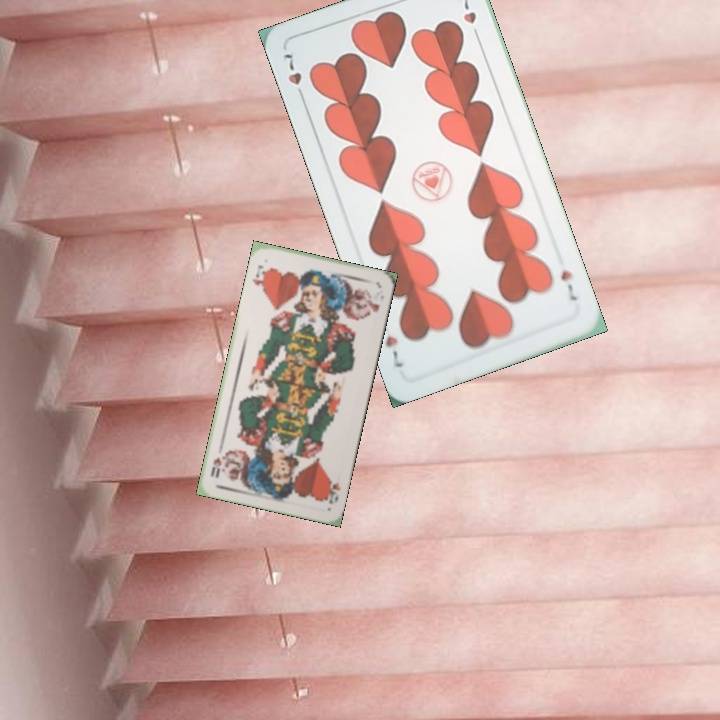H7: (279, 49, 308, 104), (556, 266, 580, 304)
HO: (248, 261, 270, 294), (322, 473, 343, 506)
